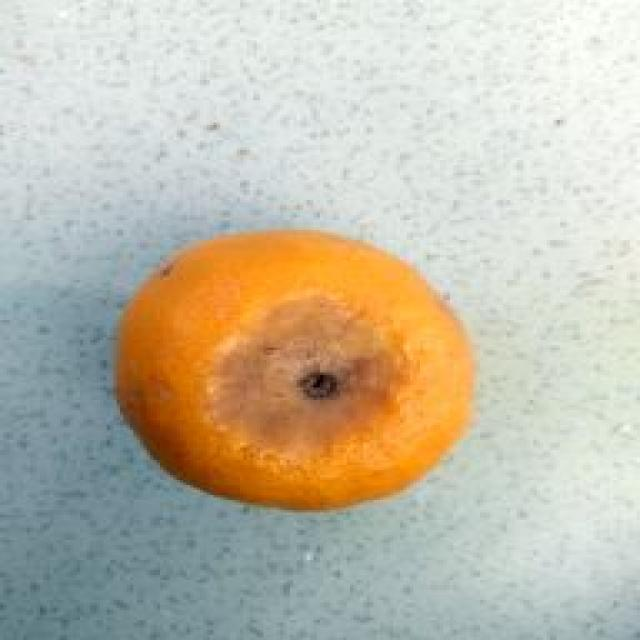Bad_Orange: (120, 231, 473, 508)
